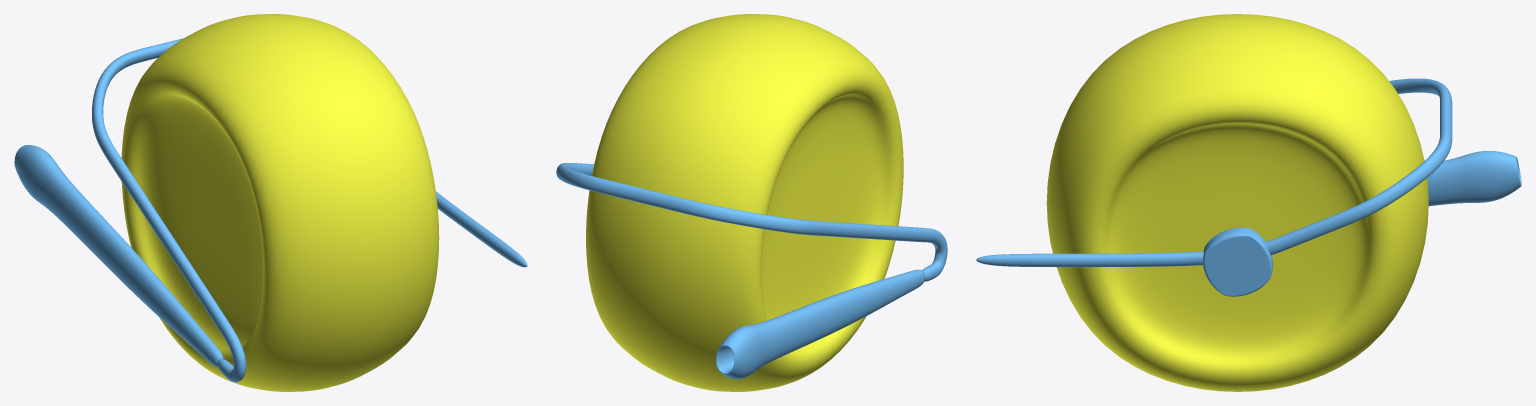
The model's file is Ball (Speed).glb.
The picture shows the model from 3 angles, left to right: view 1: azimuth 30°, elevation 25°; view 2: azimuth 150°, elevation 25°; view 3: azimuth 270°, elevation 25°; orthographic projection.
Visible parts, largest first — view 1: Ball, exhaust, Frame; view 2: Ball, exhaust, Frame; view 3: Ball, Frame, exhaust, Headphone.
Part boxes in pixels (x1,y1,x2,y2): Ball: [121, 14, 439, 391]; exhaust: [14, 145, 223, 367]; Frame: [92, 38, 527, 382]; Ball: [586, 14, 903, 391]; exhaust: [716, 269, 925, 379]; Frame: [556, 163, 947, 281]; Ball: [1046, 14, 1428, 391]; Frame: [976, 78, 1452, 267]; exhaust: [1427, 151, 1521, 206]; Headphone: [1203, 227, 1272, 296].
Bounding box in the file's own units: 1.68 × 2.12 × 3.02.
